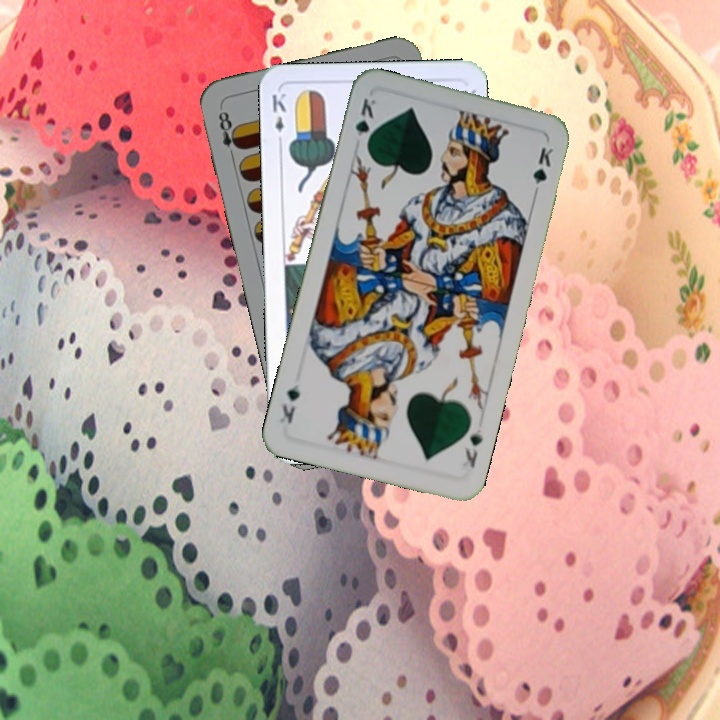E8: (214, 107, 244, 162)
EK: (268, 89, 288, 148)
GK: (351, 94, 379, 152), (460, 425, 485, 470)
